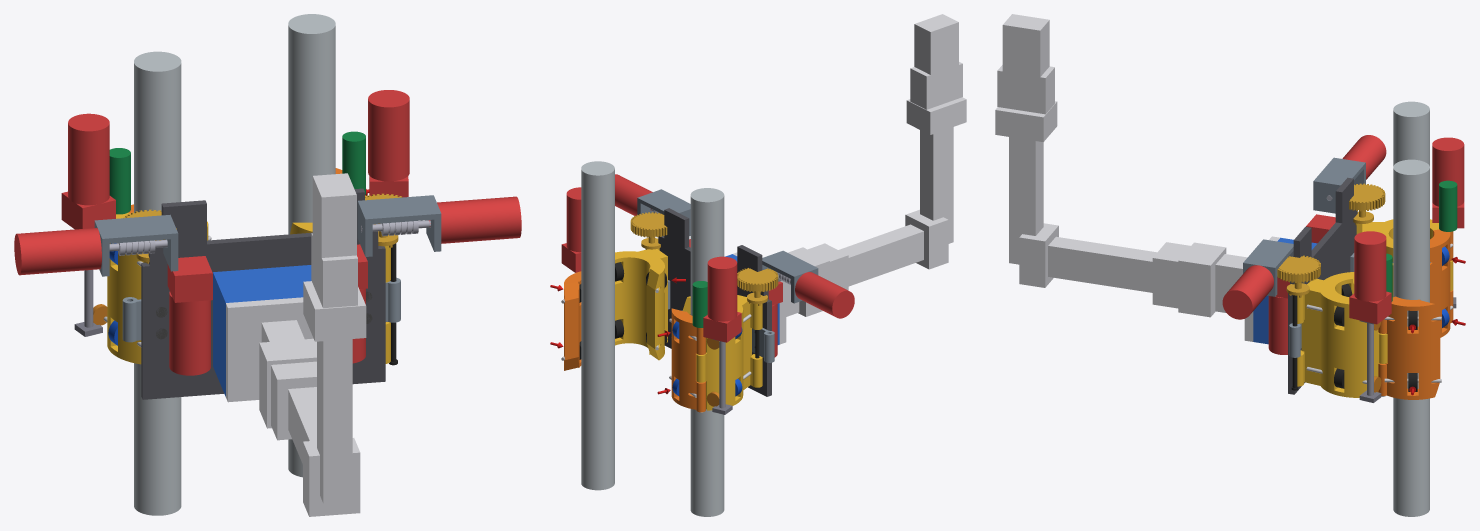
File: assembly-swing-pipe-b.glb
3 renders of one model, left to right at view 1: azimuth 30°, elevation 25°; view 2: azimuth 150°, elevation 25°; view 3: azimuth 270°, elevation 25°, orthographic. The views are drawn at different scales.
Visible parts, largest first — view 1: arm_envelope, base_plate, track_pipe_B, track_pipe_C, drive_motors, battery, static_B_drive_motor, released_C_drive_motor, hinge_B_worm_motor, hinge_C_worm_motor, hinge_C_worm_bracket, hinge_B_worm_bracket (+10 smaller); view 2: arm_envelope, track_pipe_C, track_pipe_B, released_C_sleeve, base_plate, static_B_sleeve, static_B_jaw, static_B_drive_motor, hinge_B_worm_motor, released_C_jaw, hinge_B_worm_bracket, hinge_B_worm_wheel_hub (+9 smaller); view 3: arm_envelope, track_pipe_C, released_C_sleeve, released_C_jaw, base_plate, released_C_drive_motor, track_pipe_B, drive_motors, static_B_jaw, hinge_C_worm_motor, static_B_drive_motor, hinge_B_worm_bracket (+9 smaller).
Boxes of the visible parts, x1,y1,x2,y2 form: arm_envelope: (226, 173, 366, 516); base_plate: (141, 188, 385, 399); track_pipe_B: (134, 51, 181, 515); track_pipe_C: (288, 14, 335, 477); drive_motors: (167, 244, 367, 375); battery: (213, 265, 311, 396); static_B_drive_motor: (68, 113, 109, 205); released_C_drive_motor: (368, 90, 409, 181); hinge_B_worm_motor: (14, 228, 101, 275); hinge_C_worm_motor: (429, 196, 521, 243); hinge_C_worm_bracket: (357, 195, 441, 256); hinge_B_worm_bracket: (94, 214, 178, 276); arm_envelope: (733, 14, 966, 344); track_pipe_C: (581, 161, 614, 490); track_pipe_B: (690, 188, 724, 516); released_C_sleeve: (615, 249, 665, 360); base_plate: (658, 208, 771, 396); static_B_sleeve: (682, 296, 750, 410); static_B_jaw: (671, 308, 705, 412); static_B_drive_motor: (707, 256, 737, 321); hinge_B_worm_motor: (795, 272, 854, 318); released_C_jaw: (564, 271, 581, 370); hinge_B_worm_bracket: (762, 250, 818, 303); hinge_B_worm_wheel_hub: (737, 268, 778, 305); arm_envelope: (995, 14, 1279, 341); track_pipe_C: (1393, 159, 1429, 516); released_C_sleeve: (1304, 272, 1387, 397); released_C_jaw: (1378, 296, 1440, 399); base_plate: (1288, 177, 1357, 394); released_C_drive_motor: (1354, 231, 1386, 301); track_pipe_B: (1393, 101, 1429, 166); drive_motors: (1268, 214, 1335, 354); static_B_jaw: (1430, 229, 1453, 337); hinge_C_worm_motor: (1222, 265, 1273, 319); static_B_drive_motor: (1432, 137, 1464, 206); hinge_B_worm_bracket: (1313, 157, 1365, 213).
Size of the model in its own units: 331 by 388 by 412.
